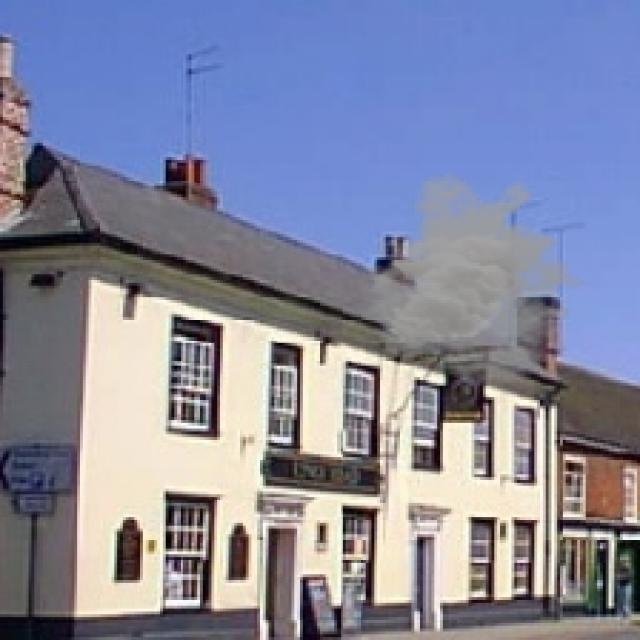Smoke: (357, 172, 594, 388)
